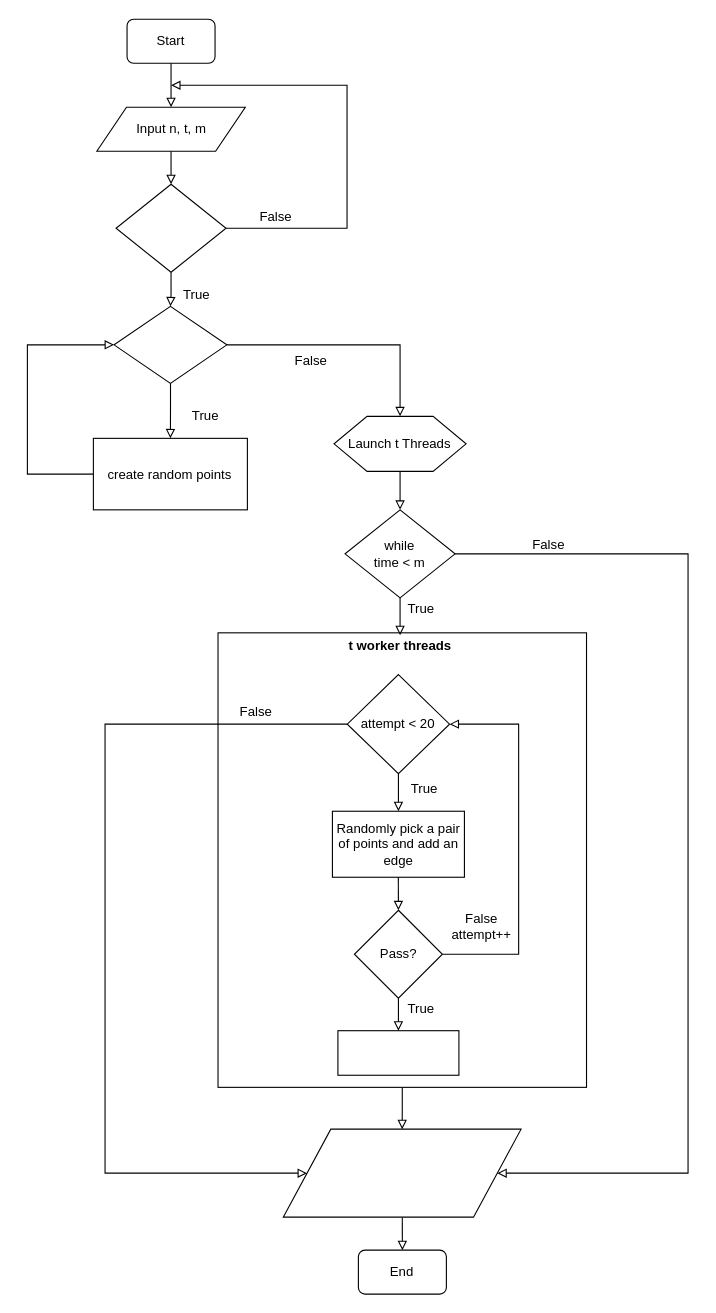
This 716x1313 diagram has some shape labels left out. Each missing label, with the box of its shape:
for (i < n): (113, 305, 227, 383)
lock paired points: (337, 1030, 459, 1075)
n > t: (115, 183, 226, 272)
Number of edges each thread successfully paired: (282, 1128, 521, 1217)
